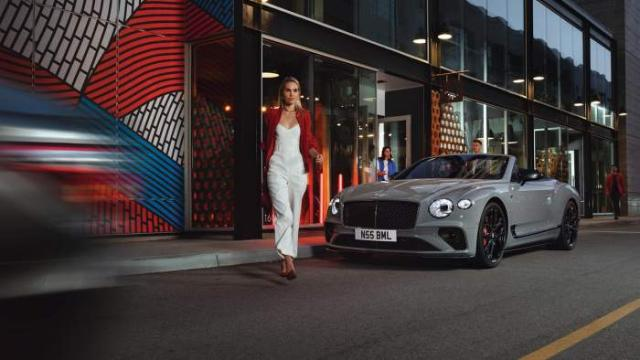bentley: (323, 153, 581, 268)
